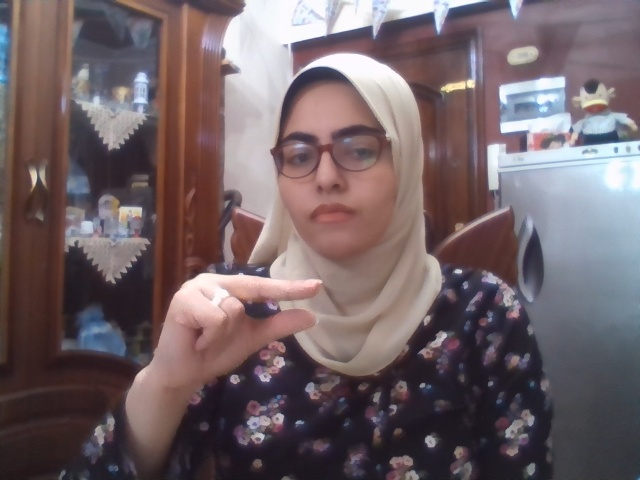no: (152, 273, 323, 391)
